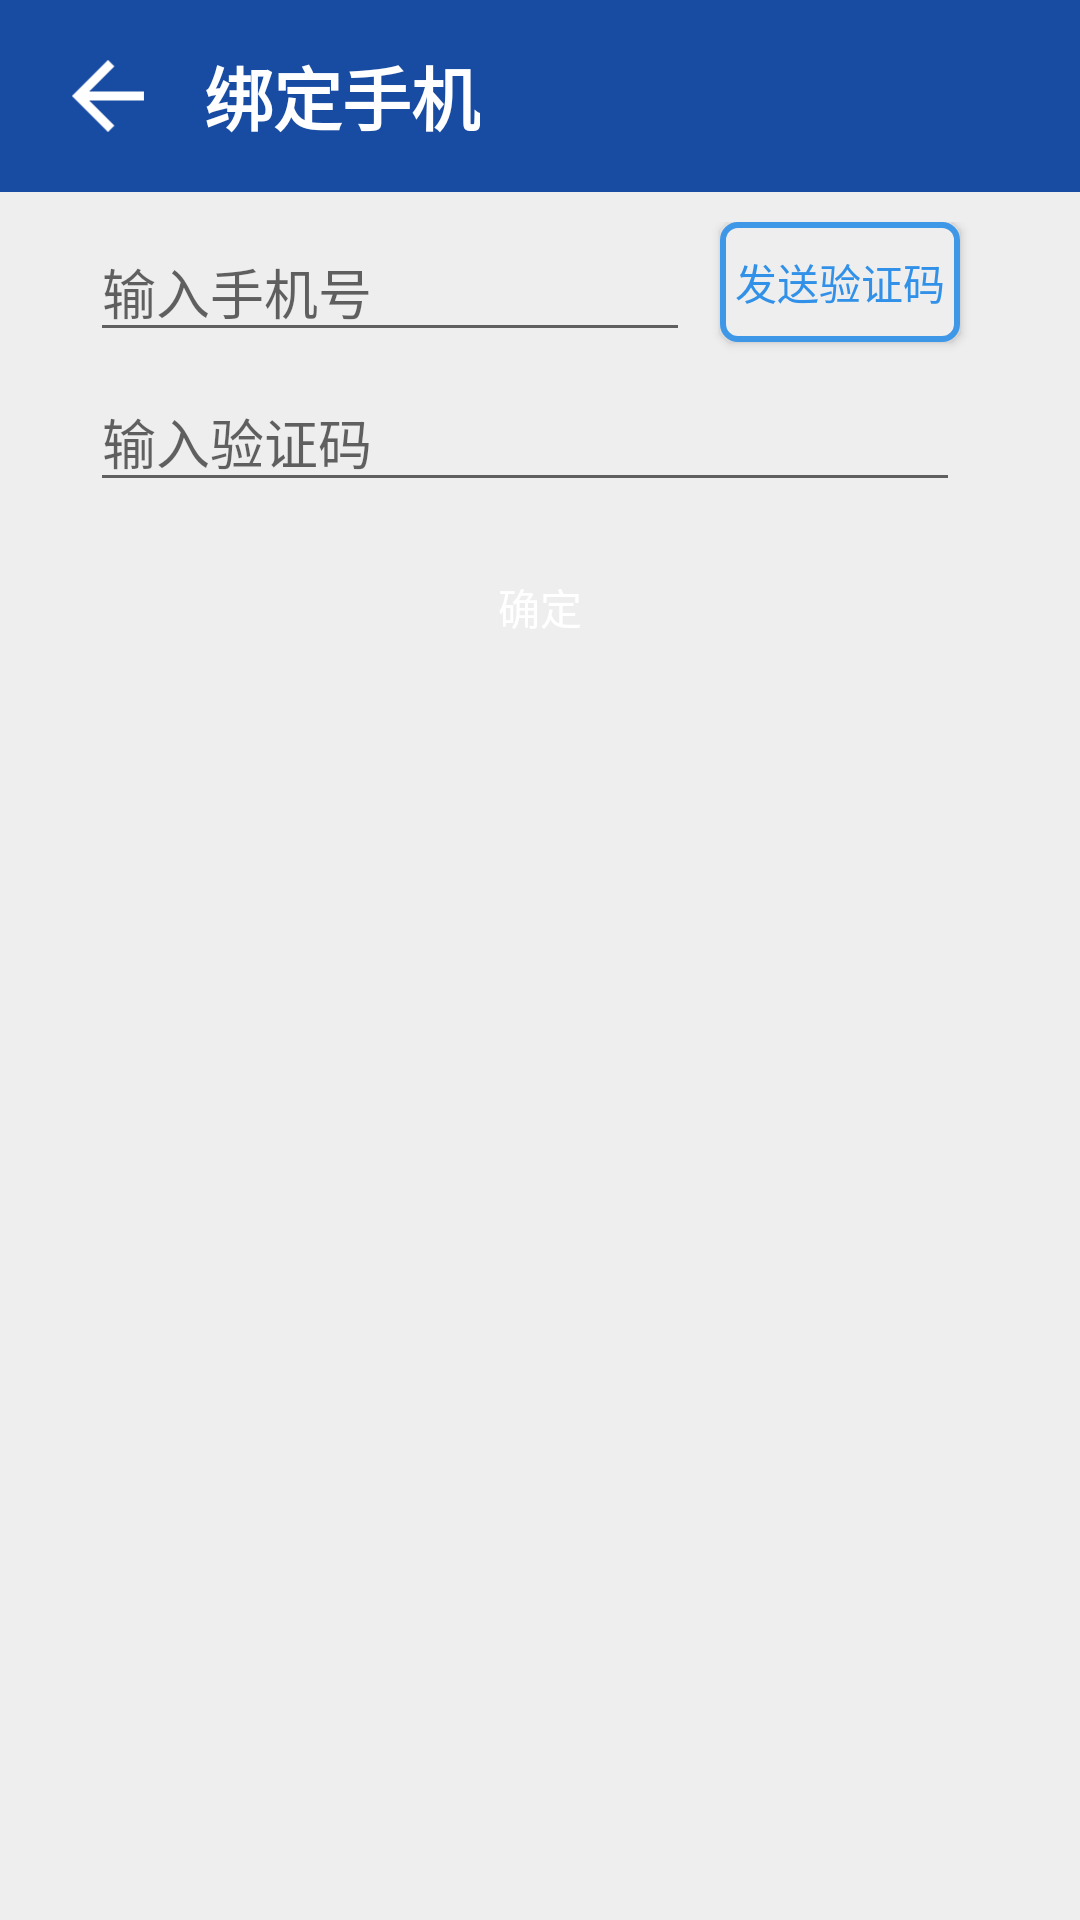

Named icons in this screenshot (1080*1920) and their bounding boxes, (x1, y1, x2, y2):
arrow back: (72, 60, 144, 132)
